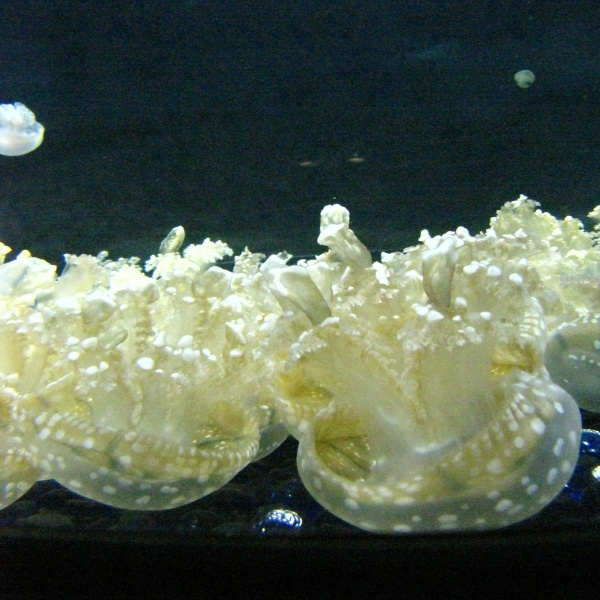Jellyfish: (238, 200, 580, 538), (0, 230, 310, 513)
